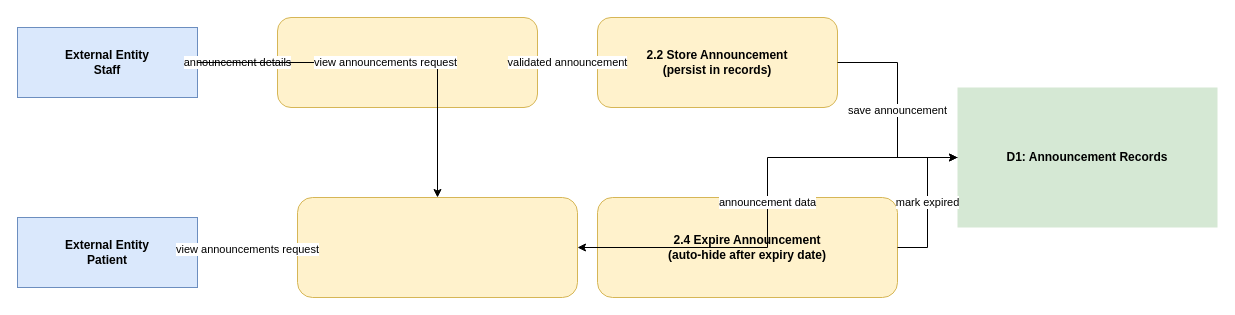
Some shapes in this 1235 by 315 pixel diagram are drawn without their labels. The shapes that lost their labels are listed below. From the top down, each one's centre as x and y in pixels, then its label:
[407,62]: 2.1 Create Announcement (staff input via resolver)
[437,247]: 2.3 Display Announcement (query for patient/staff)
